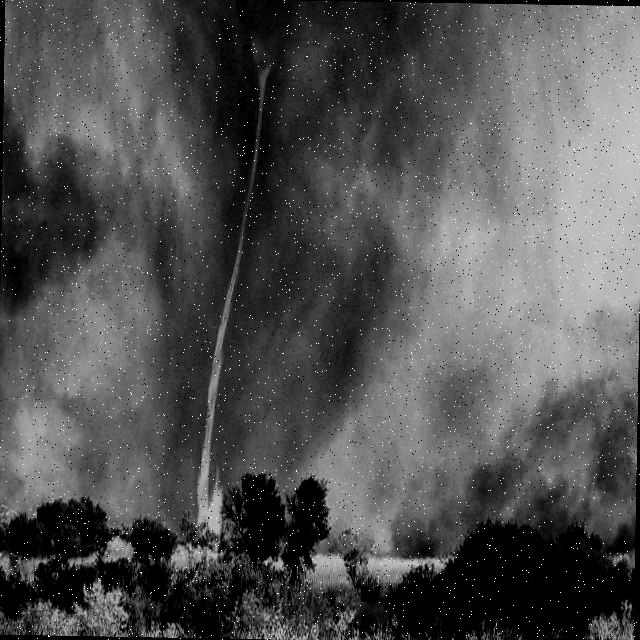api: (197, 222, 249, 458), (190, 464, 247, 560)
asap: (251, 12, 640, 540), (1, 9, 195, 525)
